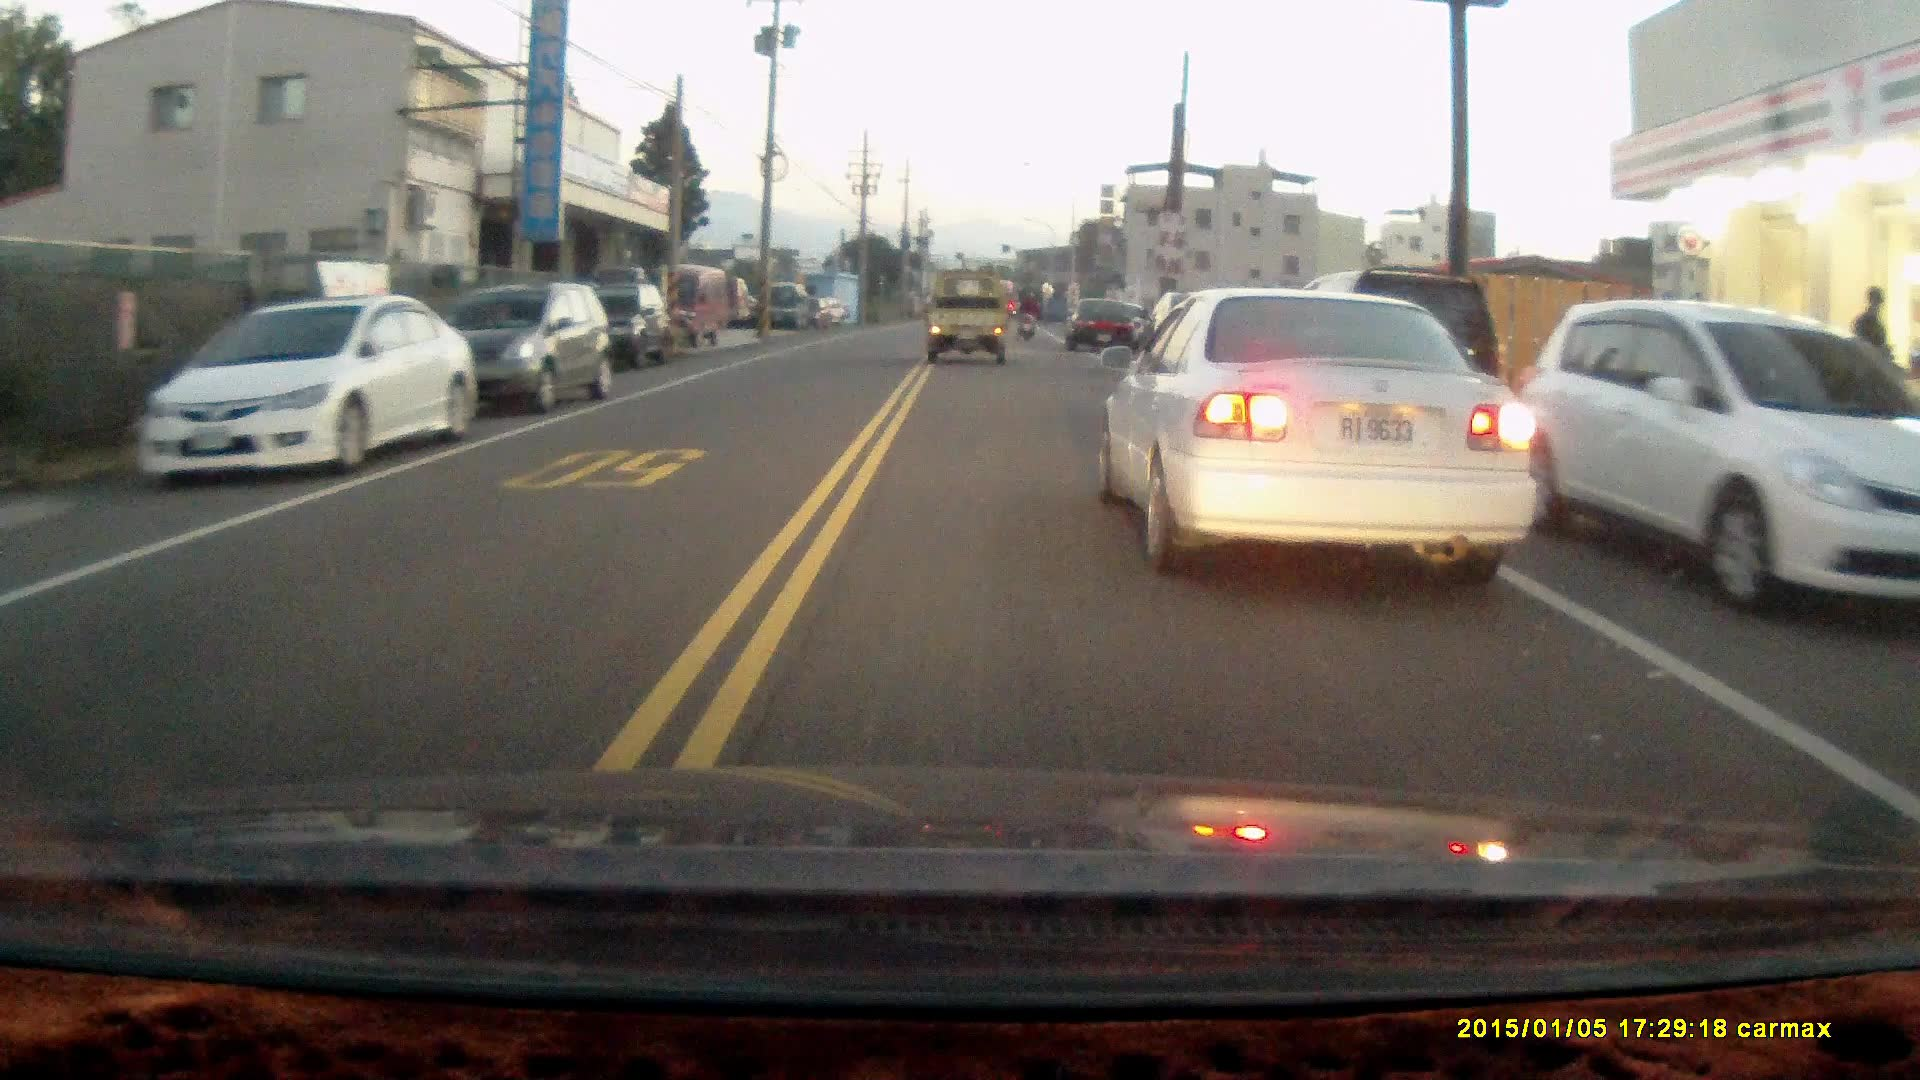pedestrian: (1850, 283, 1890, 390)
rider: (1014, 290, 1041, 338)
vehicle: (1521, 299, 1920, 622), (1100, 286, 1538, 579), (134, 293, 484, 480), (1295, 270, 1508, 484), (408, 279, 611, 413), (927, 270, 1014, 368), (580, 284, 676, 370), (643, 263, 744, 345), (1067, 296, 1146, 357)
